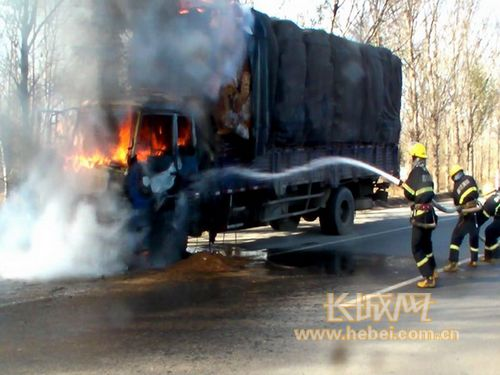fire: (46, 114, 194, 165)
smoke: (49, 4, 245, 101)
smoke1: (1, 176, 138, 289)
